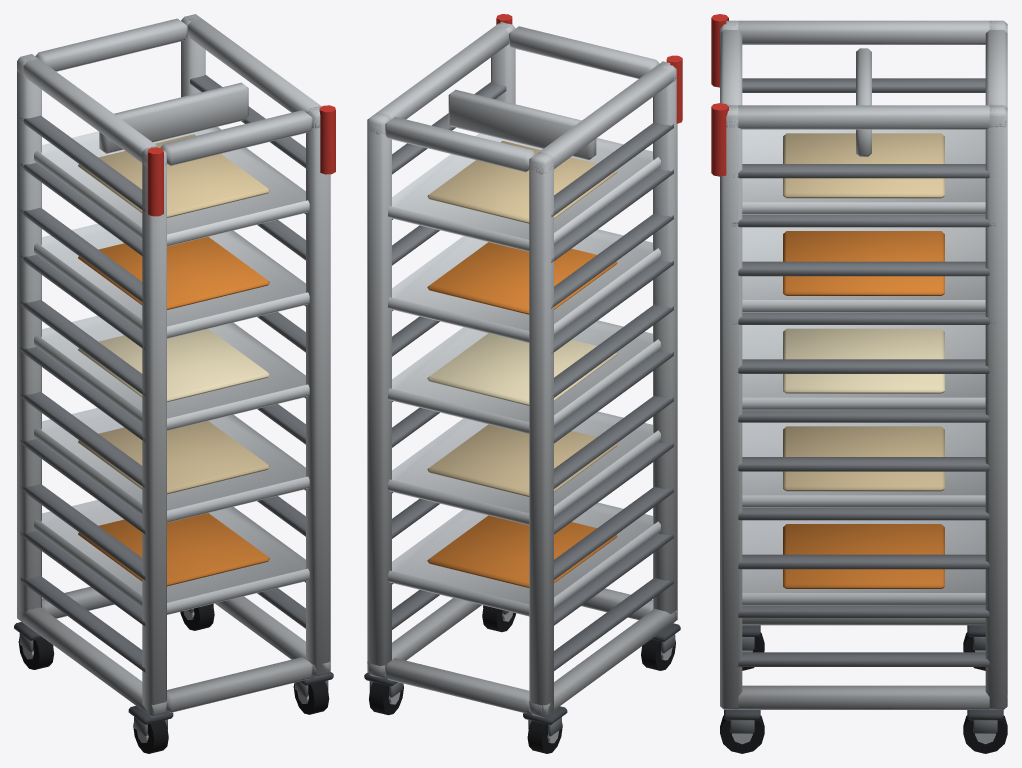
The model's file is SM_SheetPanRack_01.glb.
The picture shows the model from 3 angles, left to right: view 1: azimuth 30°, elevation 25°; view 2: azimuth 150°, elevation 25°; view 3: azimuth 270°, elevation 25°; orthographic projection. The views are drawn at different scales.
Visible parts, largest first — view 1: SM_SheetPanRack_01; view 2: SM_SheetPanRack_01; view 3: SM_SheetPanRack_01.
Part boxes in pixels (x1,y1,x2,y2): SM_SheetPanRack_01: (14,14,335,753); SM_SheetPanRack_01: (364,14,682,753); SM_SheetPanRack_01: (711,14,1007,753).
Bounding box in the file's own units: 0.575 × 1.76 × 0.732.
Materials: 1 (1 with a texture image).
